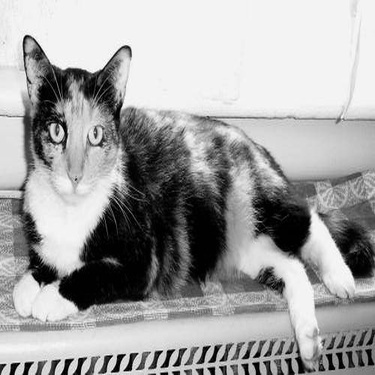cat: (15, 31, 356, 368)
